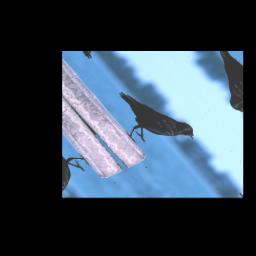Crow: (98, 76, 202, 161)
